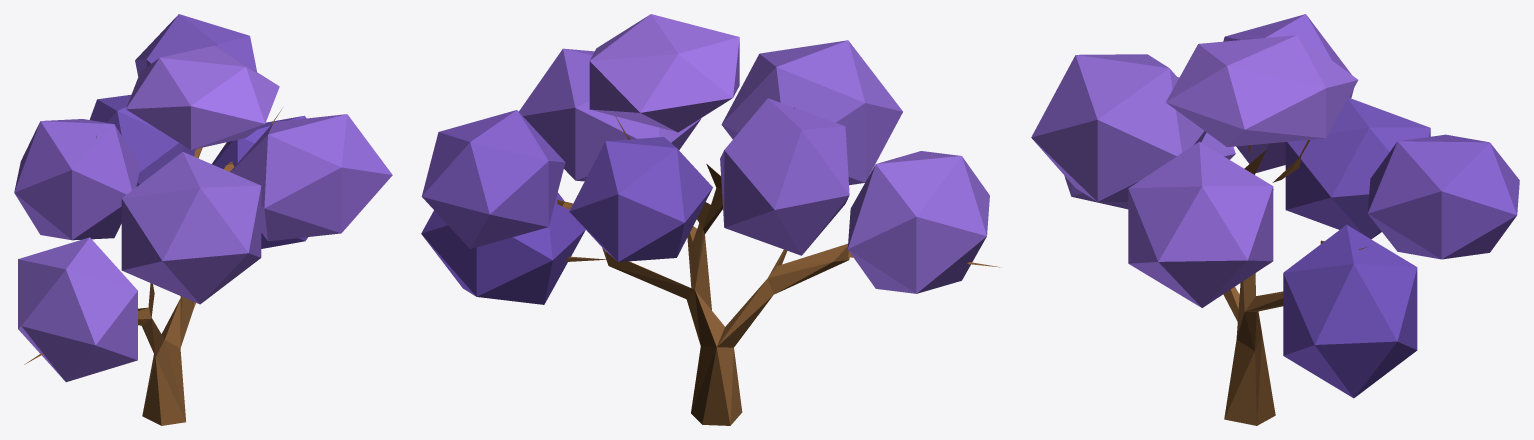
Rendered from jacaranda_3_bloom_far.glb.
3 renders of one model, left to right at view 1: azimuth 30°, elevation 25°; view 2: azimuth 150°, elevation 25°; view 3: azimuth 270°, elevation 25°, orthographic. The views are drawn at different scales.
Parts seen in each view (by area): view 1: jacaranda_3_bloom_far; view 2: jacaranda_3_bloom_far; view 3: jacaranda_3_bloom_far.
Boxes of the visible parts, x1,y1,x2,y2 form: jacaranda_3_bloom_far: [14, 14, 392, 425]; jacaranda_3_bloom_far: [421, 14, 999, 425]; jacaranda_3_bloom_far: [1031, 14, 1519, 425].
Size of the model in its own units: 8.21 by 6.5 by 7.43.
